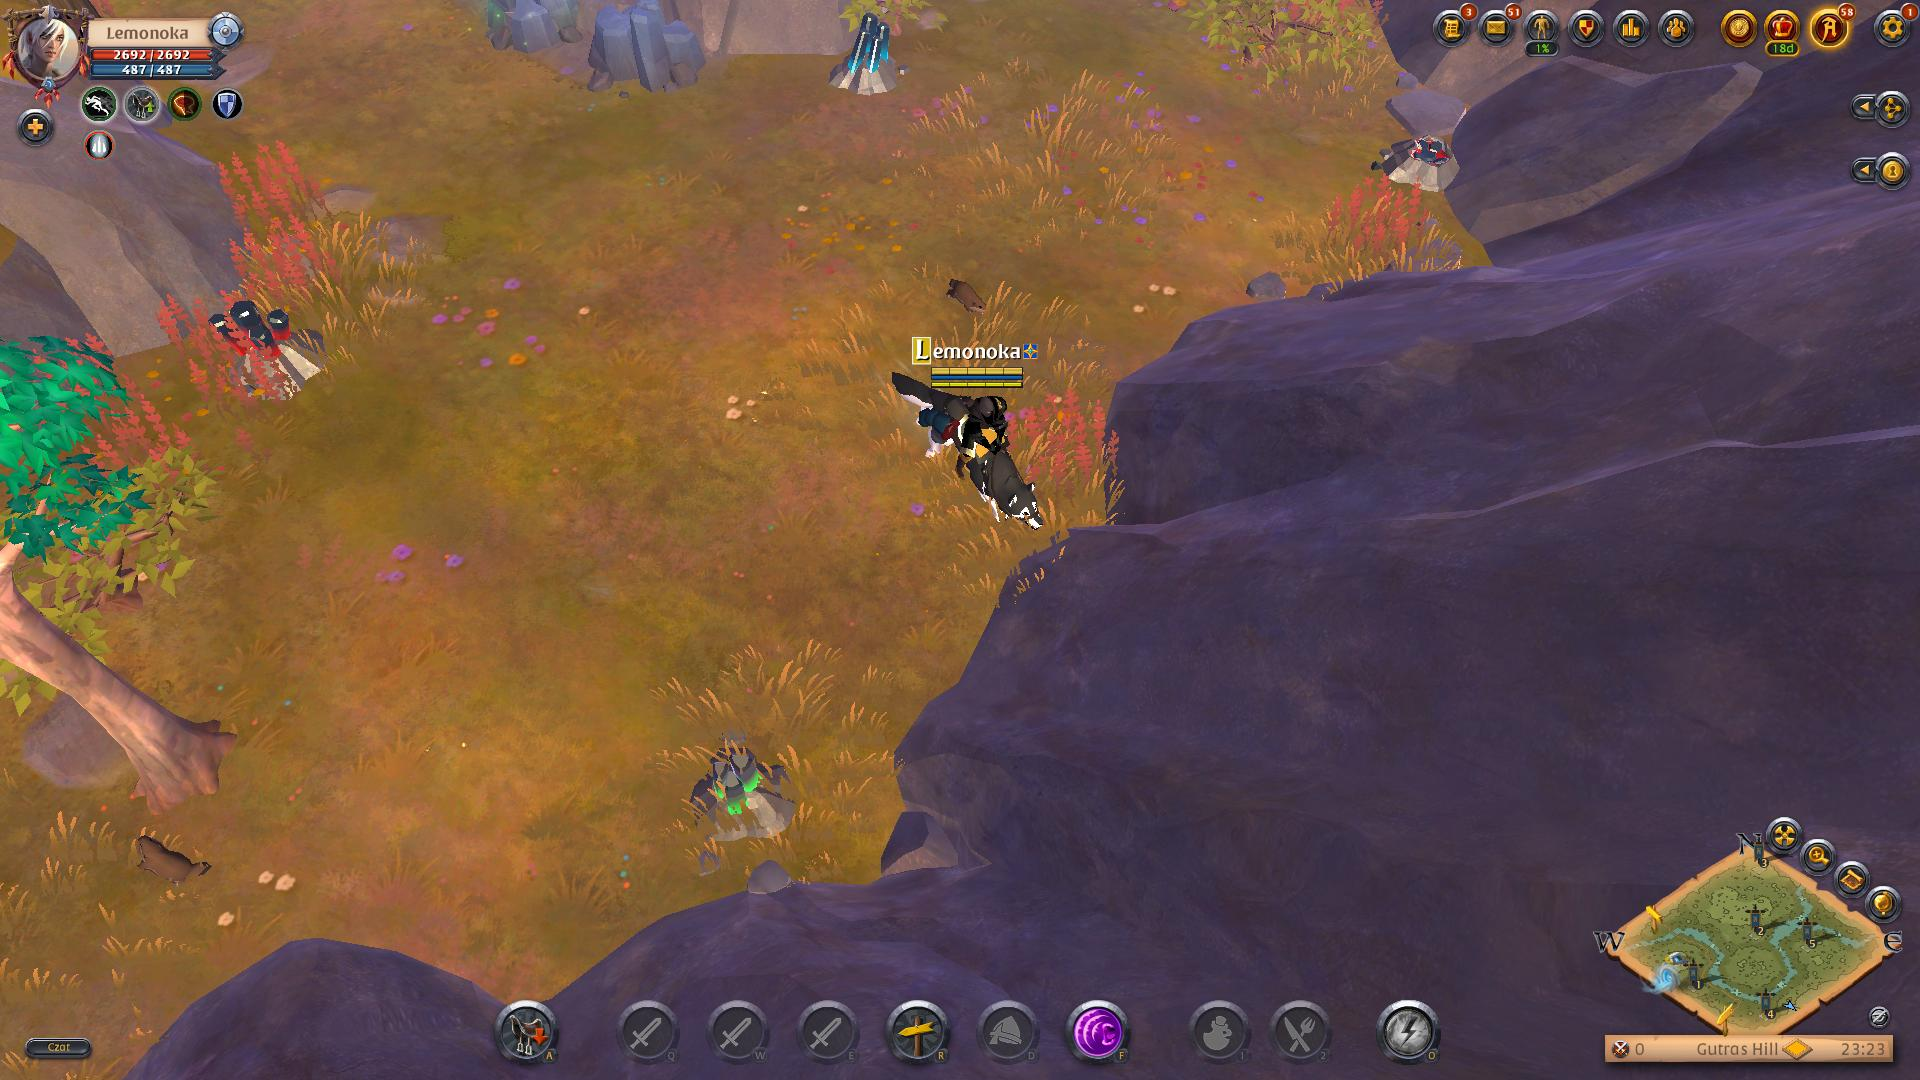ore tier 3: (683, 741, 802, 845)
ore tier 4: (825, 12, 910, 100)
ore tier 5: (200, 297, 330, 404)
